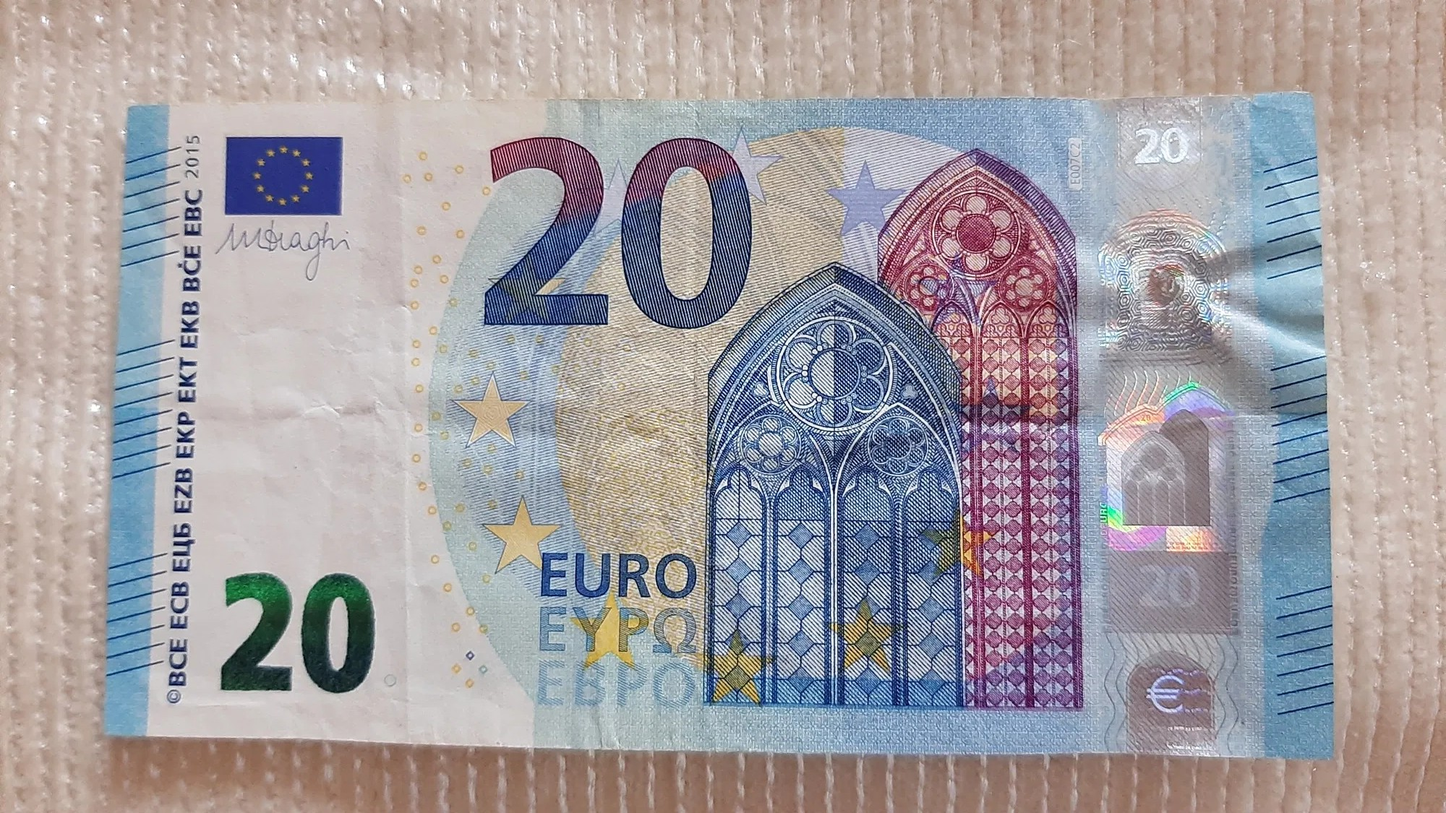Nota de 20€: (89, 88, 1347, 764)
